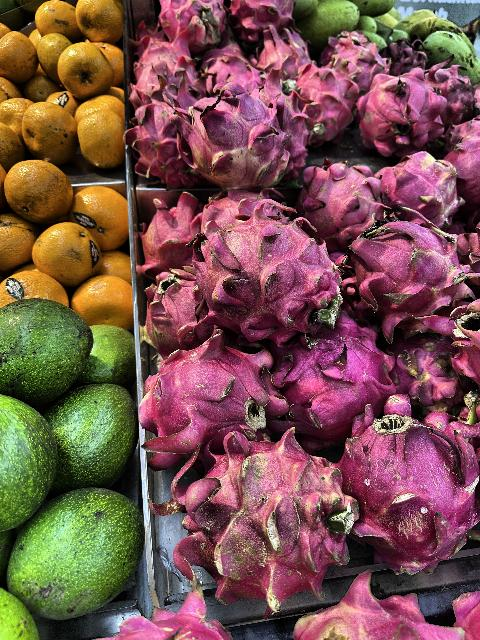buah-naga-belum-matang: (173, 435, 350, 591), (178, 87, 288, 183), (298, 580, 466, 640), (376, 153, 466, 223)
buah-naga-matang: (338, 407, 480, 573), (193, 216, 343, 322), (137, 338, 280, 444), (350, 215, 464, 323), (277, 322, 381, 422), (362, 68, 448, 154), (293, 164, 373, 240), (136, 274, 215, 344), (294, 64, 362, 138), (130, 100, 192, 180), (132, 196, 204, 264), (388, 331, 456, 401), (152, 0, 224, 42), (130, 52, 186, 100), (228, 0, 300, 36), (448, 114, 480, 192), (257, 31, 311, 77), (205, 46, 255, 92), (386, 38, 424, 70), (318, 30, 362, 56), (345, 48, 379, 74)
